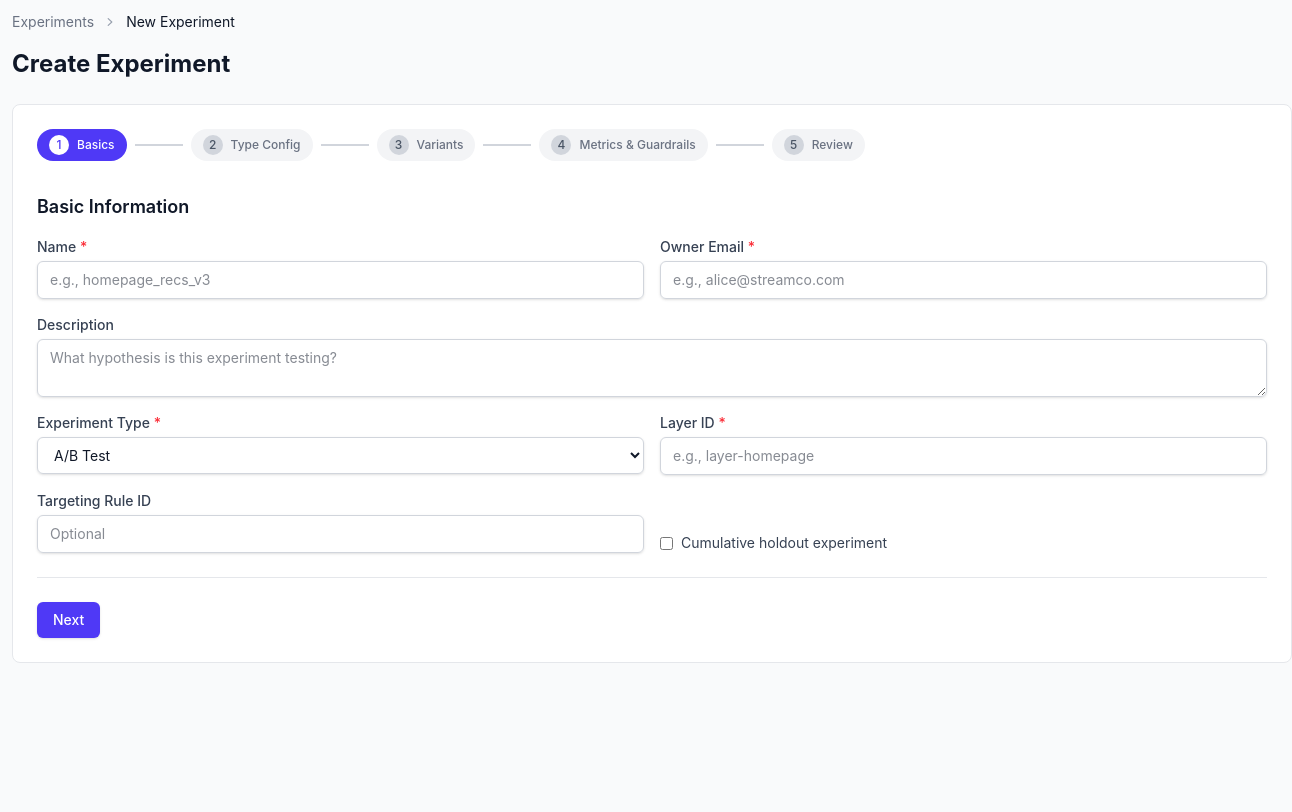
Scenario: New Experiment Page › shows validation error for missing owner email
Type "test_experiment" into the field labelled "Name *".
click(340, 280); type("test_experiment")  # box [37, 261, 644, 299]
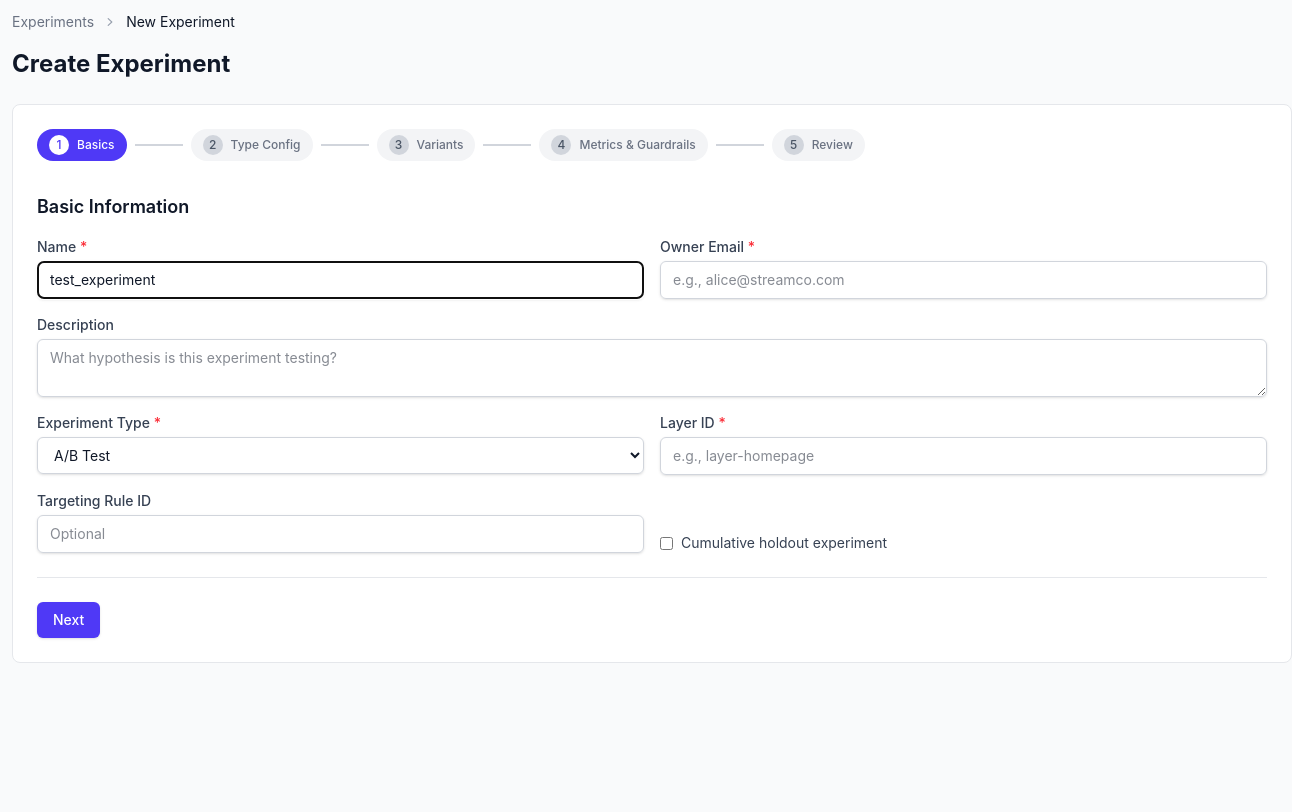
Click the button "Next".
click(69, 620)  # box [37, 602, 100, 638]
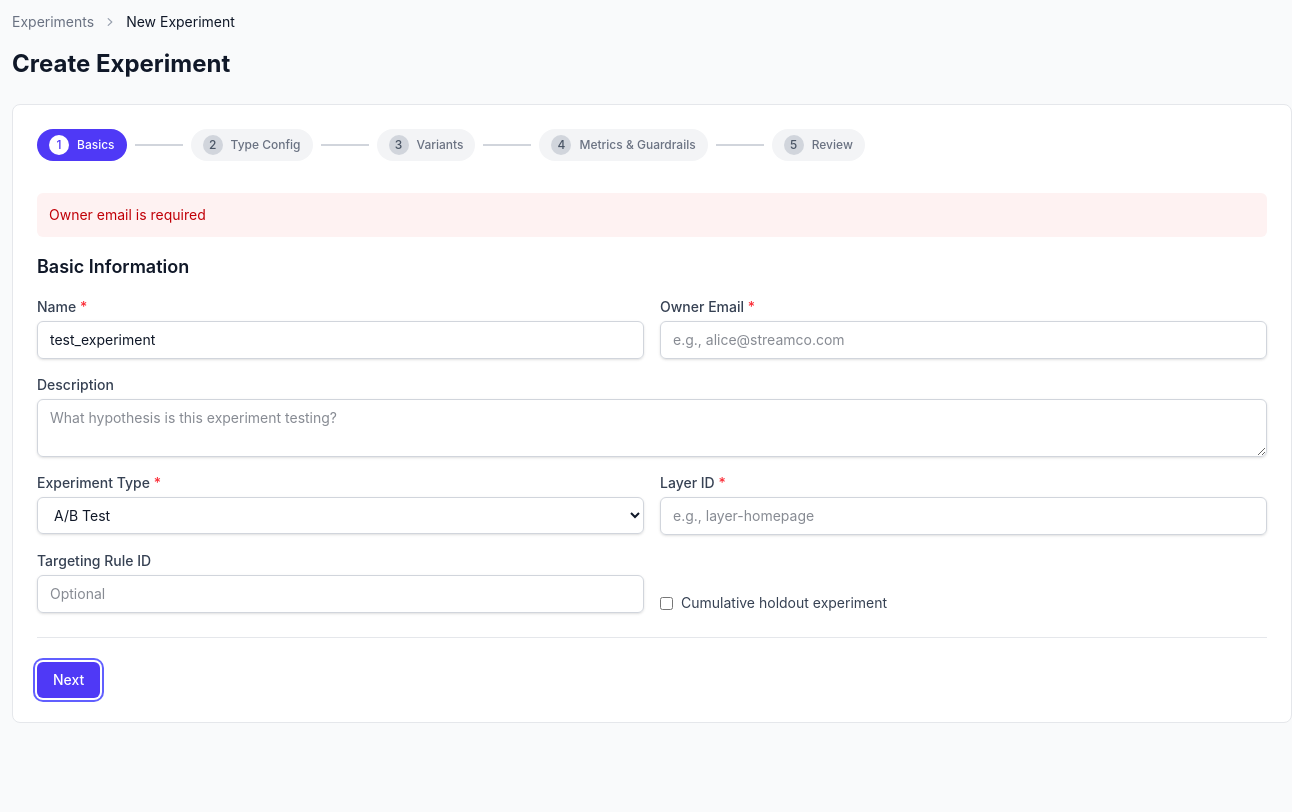
Now the message shows "email", box [49, 206, 206, 223]
